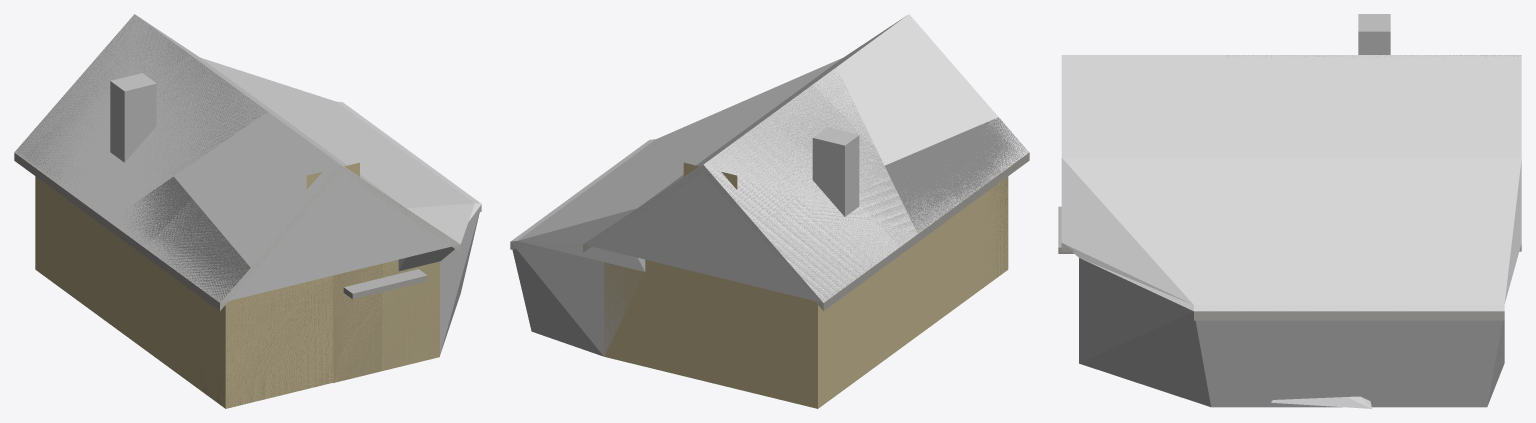
Rendered from bld_house_a.glb.
3 views of the same model, side by side, from view 1: azimuth 30°, elevation 25°; view 2: azimuth 150°, elevation 25°; view 3: azimuth 270°, elevation 25° (orthographic). The views are drawn at different scales.
Parts seen in each view (by area): view 1: damaged, intact, chunk_04, chunk_00, chunk_06, chunk_05, chunk_02, chunk_07, chunk_01; view 2: damaged, chunk_06, chunk_02, intact, chunk_03, chunk_00, chunk_07, chunk_04, chunk_05; view 3: chunk_05, chunk_07, chunk_04, chunk_01, chunk_06, chunk_03, damaged, rubble.
Part boxes in pixels (<box>): damaged: <box>14,15,481,408</box>; intact: <box>17,16,460,408</box>; chunk_04: <box>105,80,405,313</box>; chunk_00: <box>118,237,332,408</box>; chunk_06: <box>14,14,288,218</box>; chunk_05: <box>291,124,474,271</box>; chunk_02: <box>35,176,118,329</box>; chunk_07: <box>201,58,417,161</box>; chunk_01: <box>419,162,481,354</box>; damaged: <box>510,67,1029,408</box>; chunk_06: <box>637,100,913,314</box>; chunk_02: <box>645,255,900,408</box>; intact: <box>704,15,1027,405</box>; chunk_03: <box>510,180,645,366</box>; chunk_00: <box>901,177,1008,347</box>; chunk_07: <box>517,142,727,271</box>; chunk_04: <box>730,14,1029,235</box>; chunk_05: <box>601,58,842,179</box>; chunk_05: <box>1061,157,1319,304</box>; chunk_07: <box>1319,157,1521,304</box>; chunk_04: <box>1061,55,1319,157</box>; chunk_01: <box>1079,258,1319,407</box>; chunk_06: <box>1319,55,1521,157</box>; chunk_03: <box>1319,305,1504,407</box>; damaged: <box>1058,14,1521,320</box>; rubble: <box>1271,396,1372,408</box>.
Size of the model in its own units: 9.05 by 6 by 10.07.
